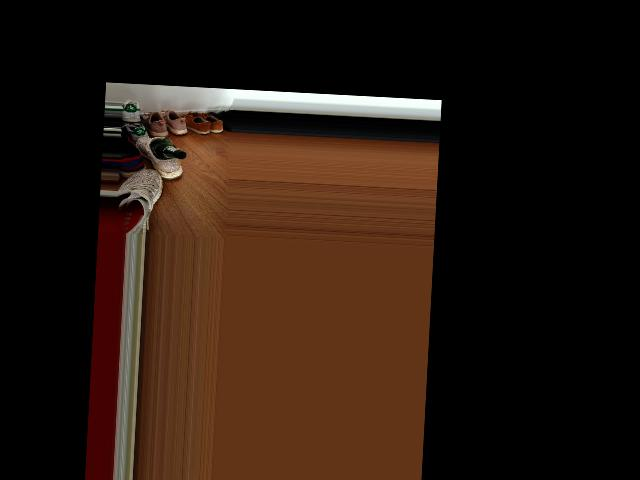beer: (150, 141, 187, 160)
